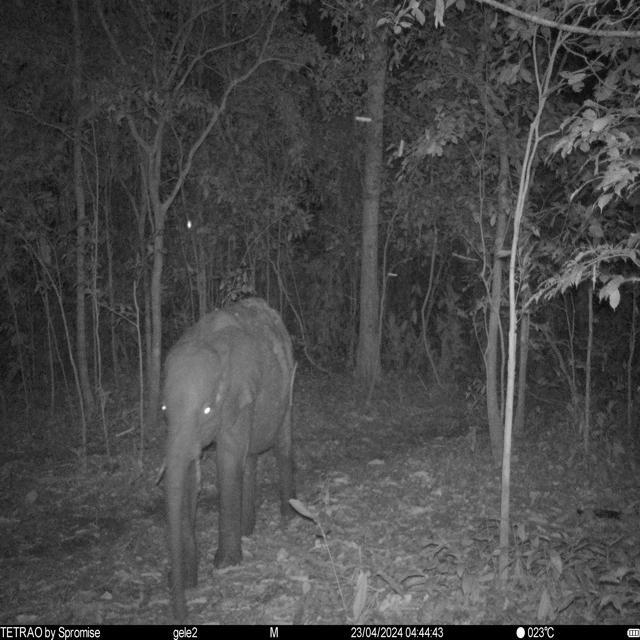calf: (156, 296, 300, 624)
tusk: (154, 456, 170, 486), (193, 461, 204, 494)
